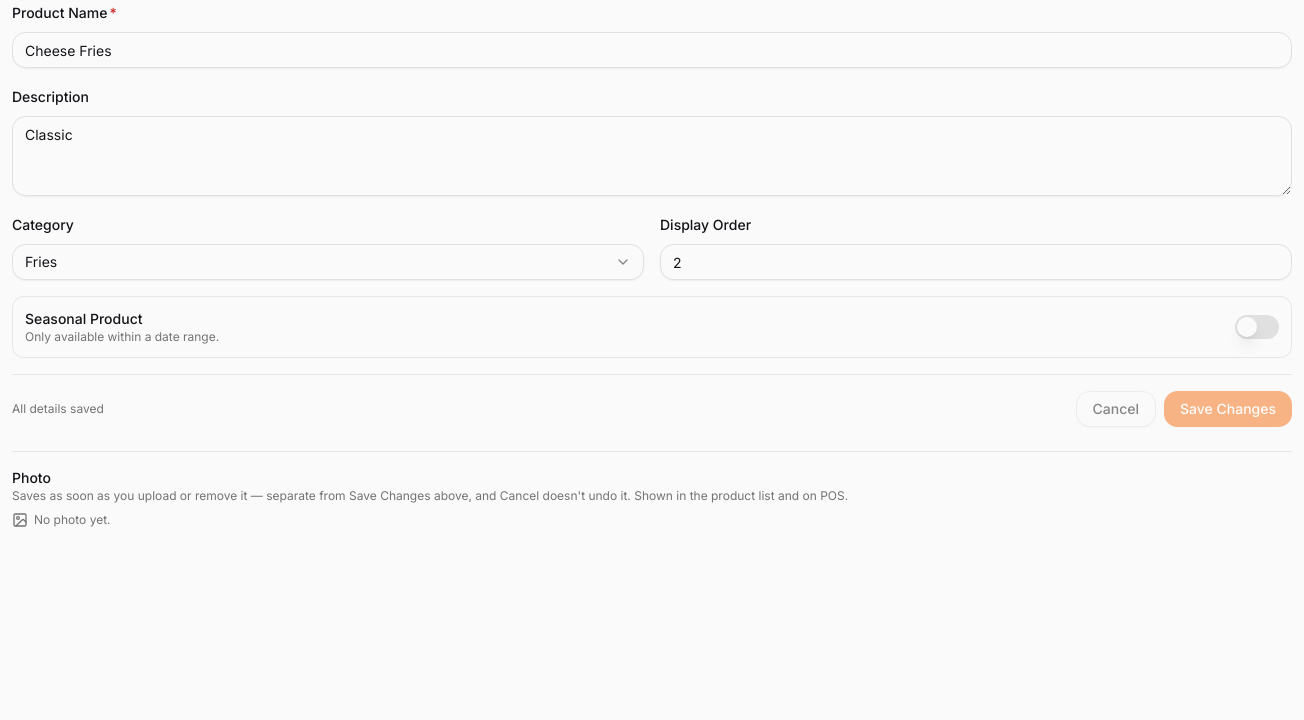
Test case: ProductDetailsForm (POS-PERF-P39) › sends nothing until Save Changes, then saves with the version it was loaded from
Expected: the button "Save Changes" is disabled, [1164,391,1292,427]
Type "Cheese Fries XL" into the field labelled "Product Name*" at (652, 50), box [12,32,1292,68]
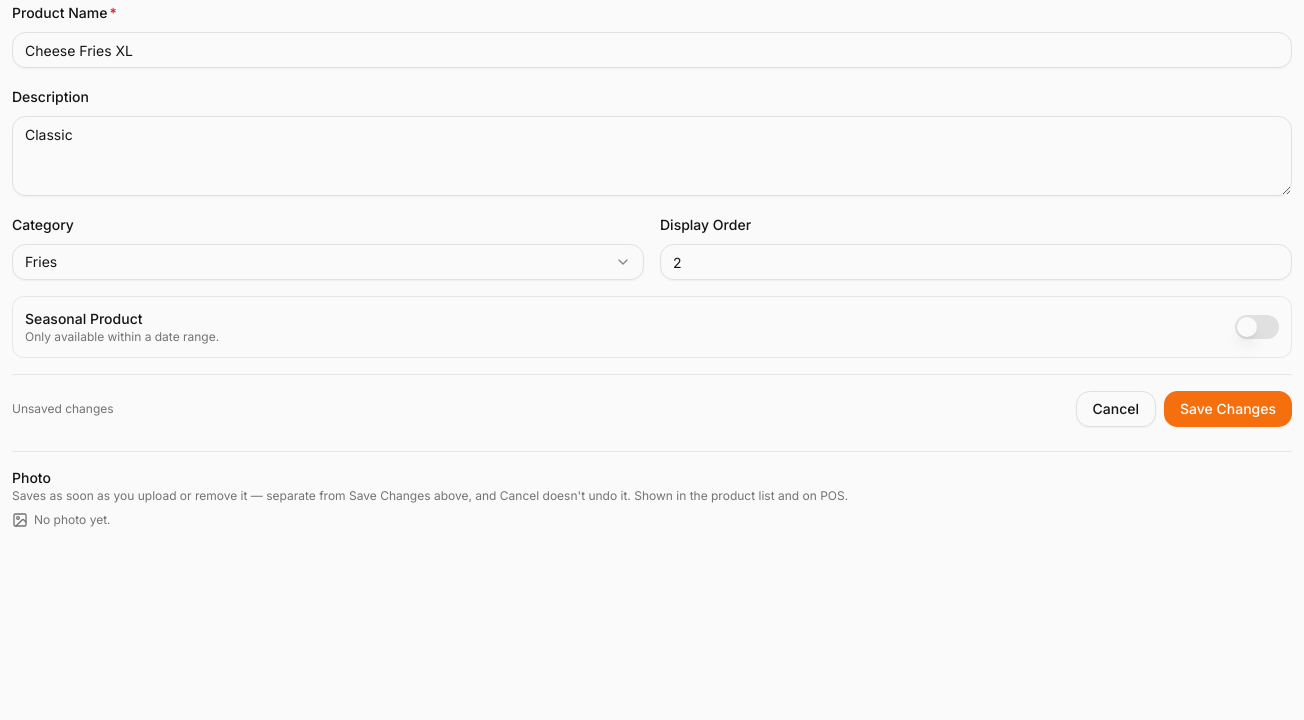
Click the button "Save Changes" at (1228, 409), box [1164,391,1292,427]
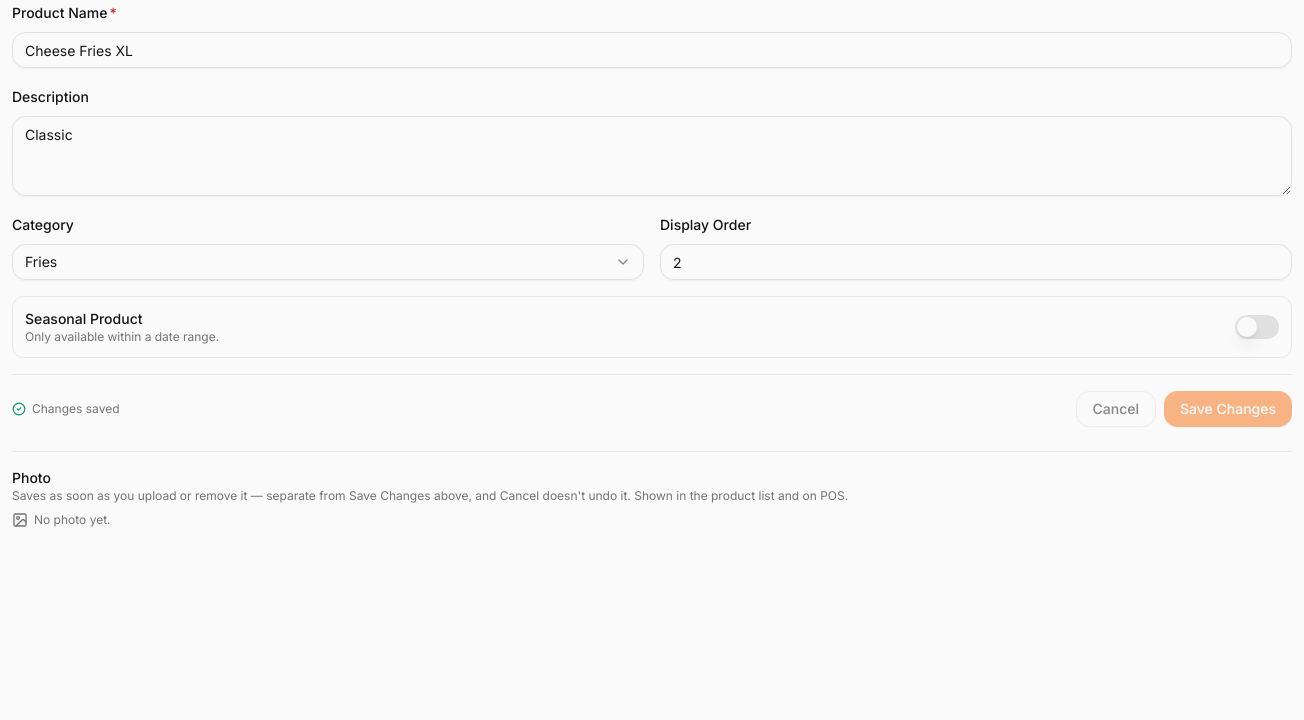
Expected: the element with test id "product-details-save-status" reads "Changes saved", [32,401,120,416]
